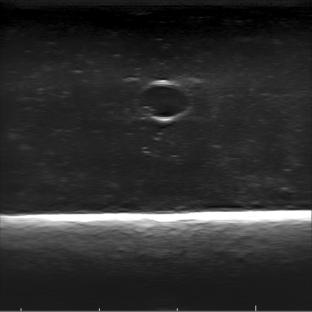vessel: (137, 78, 191, 121)
